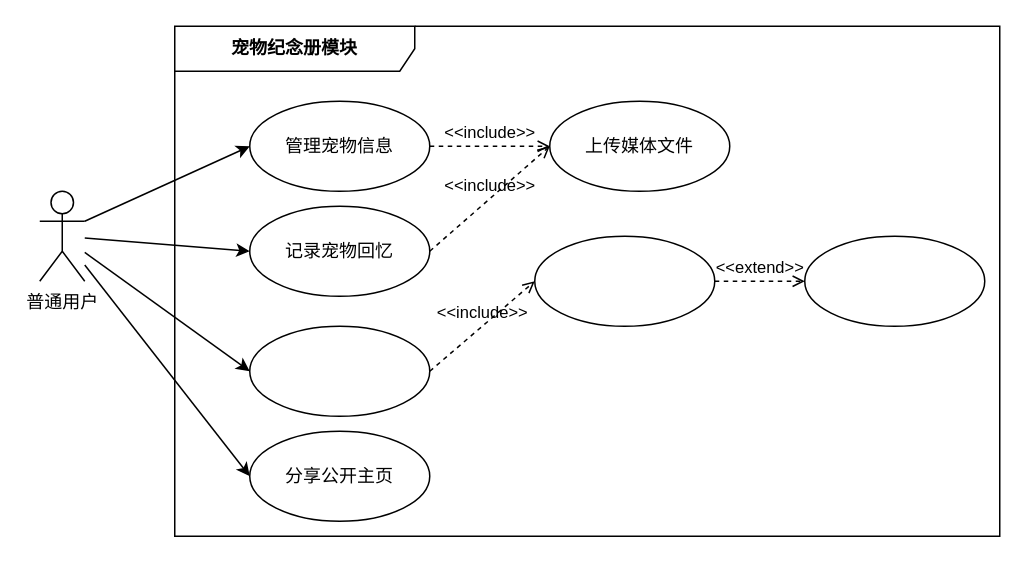
This 1026x563 diagram has some shape labels left out. The box of each missing label's shape, as (x1, y1, x2, y2) in pixels:
处理健康事项: (803, 235, 985, 326)
维护宠物档案: (248, 325, 430, 416)
设置健康提醒: (533, 235, 715, 326)
